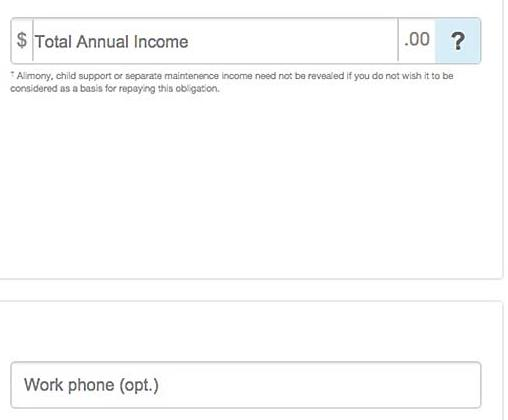field: (10, 361, 485, 410), (10, 17, 482, 66)
